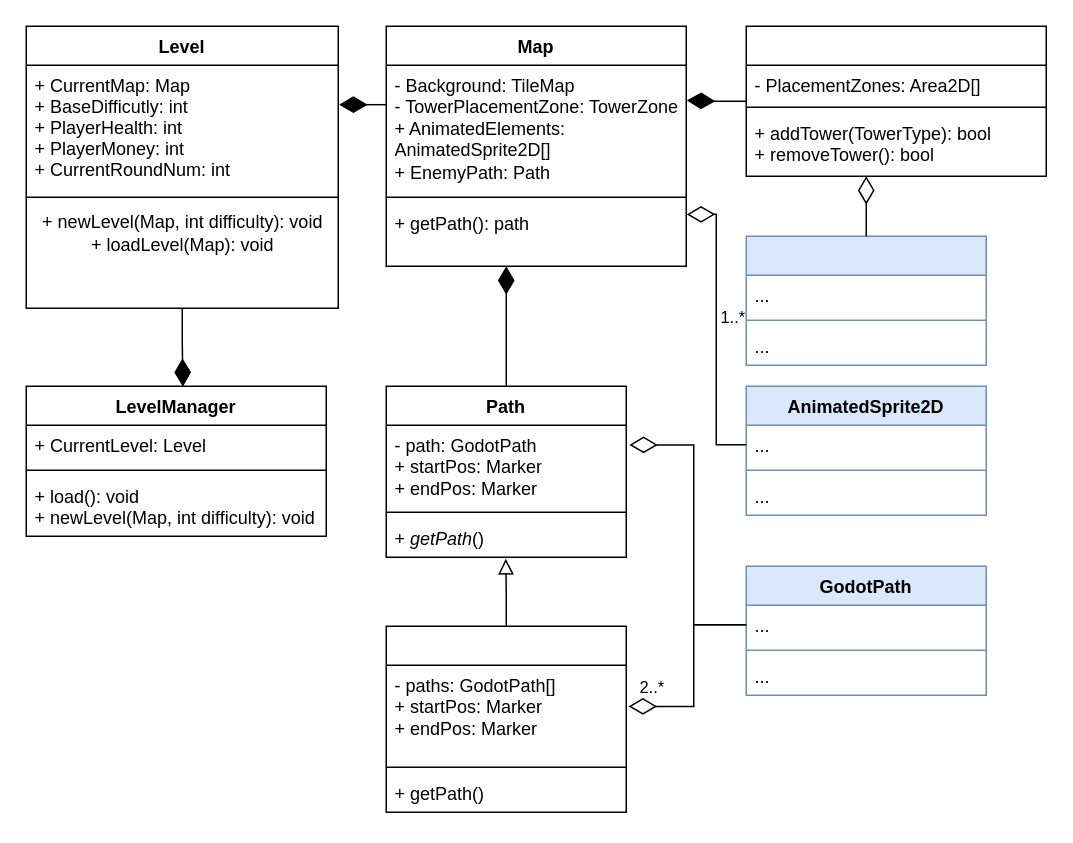
This 1073x843 diagram has some shape labels left out. The shapes that lost their labels are listed below. From the top down, each one's box as (x1, y1, x2, y2) in pixels, then its label:
(745, 25, 1046, 176): TowerZone
(745, 235, 986, 365): Area2D
(385, 625, 626, 812): MultiPath
